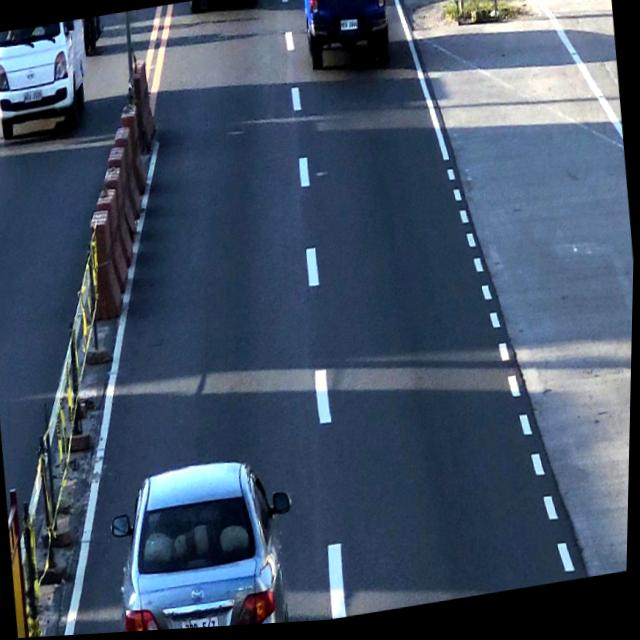Car: (109, 457, 302, 634), (294, 0, 395, 72)
License-Plate: (185, 614, 223, 631), (337, 20, 359, 39)
